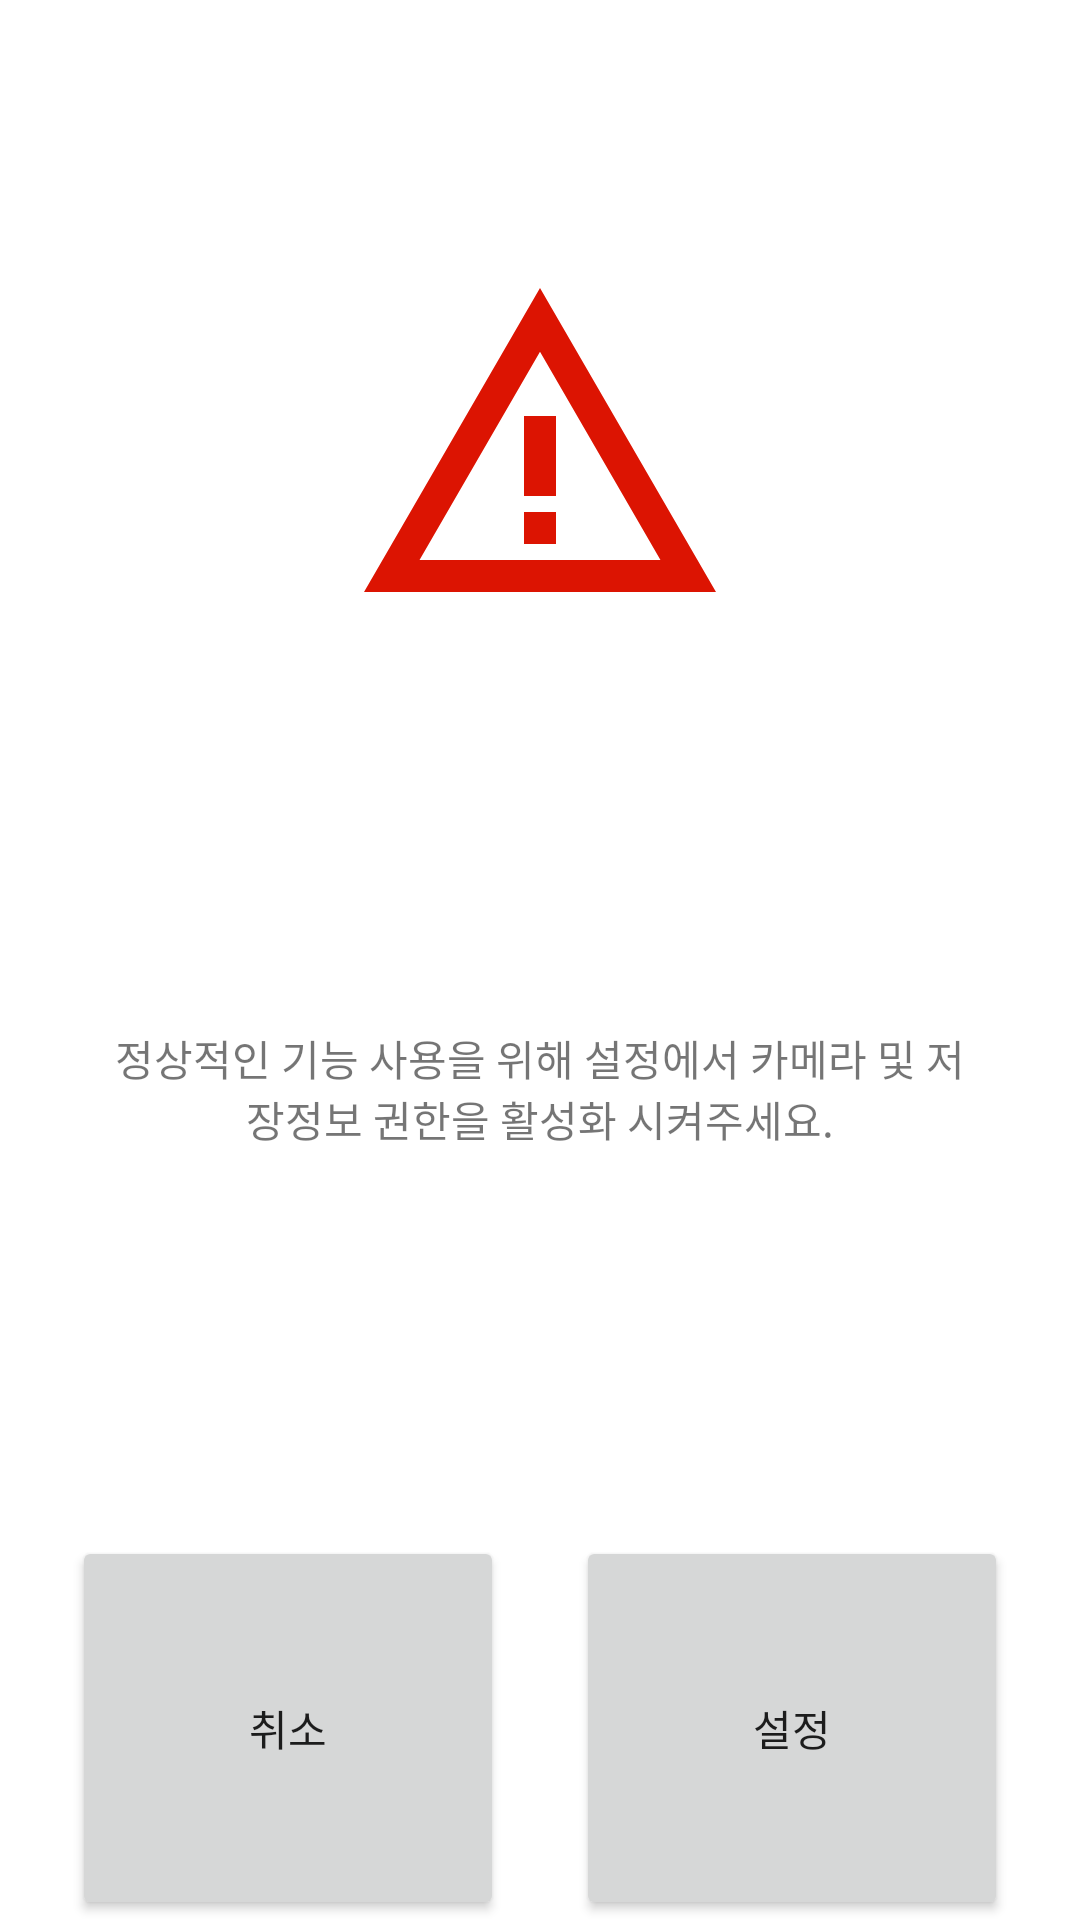

Named icons in this screenshot (1080x1920) and their centers, (x=x, y=y):
warning amber: (x=540, y=440)
